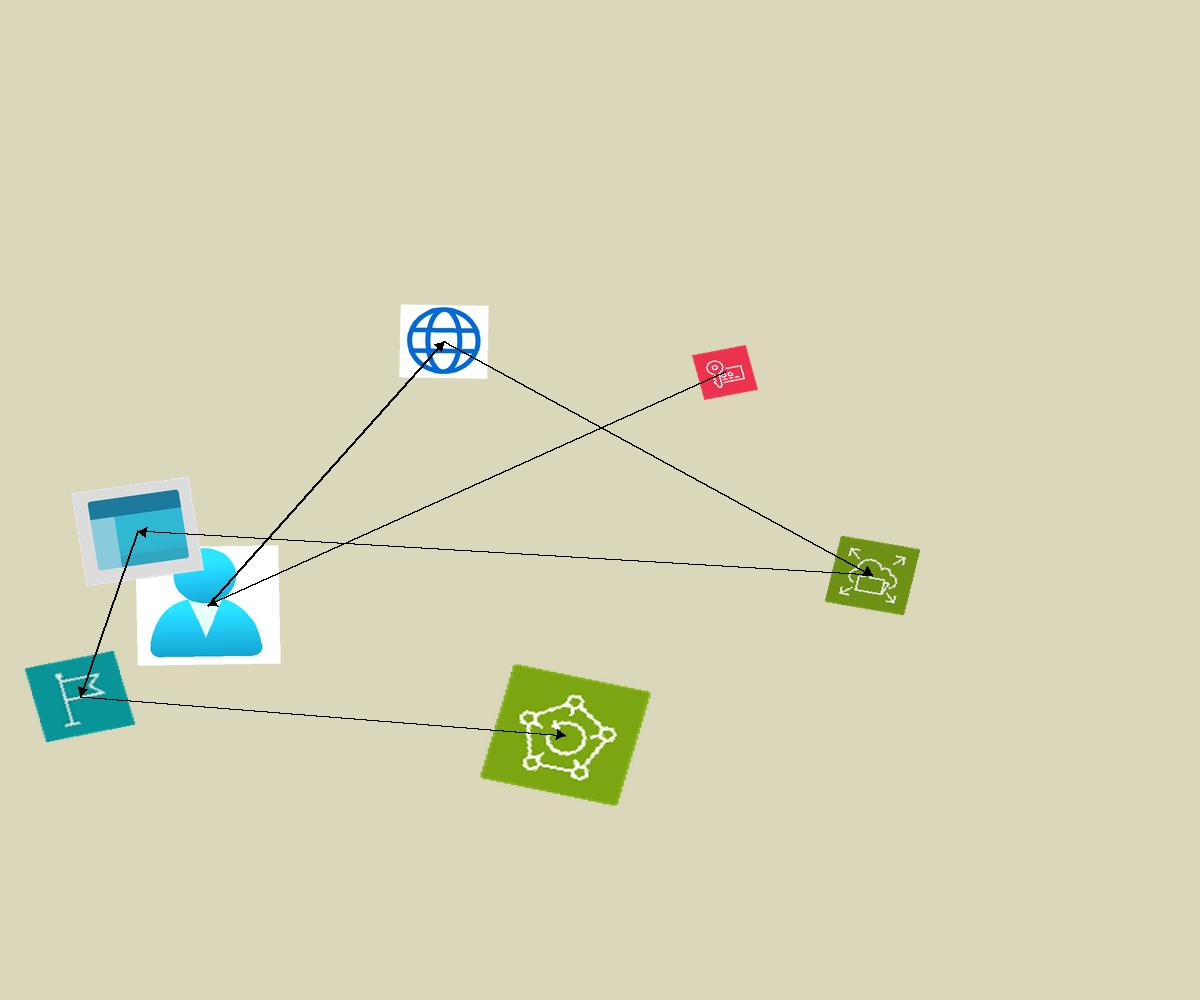AWS-Backup: (479, 663, 652, 807)
AWS-EFS: (824, 535, 921, 616)
AWS-Key-Management-Service: (692, 345, 758, 400)
AWS-Region: (24, 650, 136, 743)
Azure_http: (399, 304, 489, 379)
Azure_management-portal: (71, 476, 204, 587)
Azure_users: (135, 545, 281, 666)
